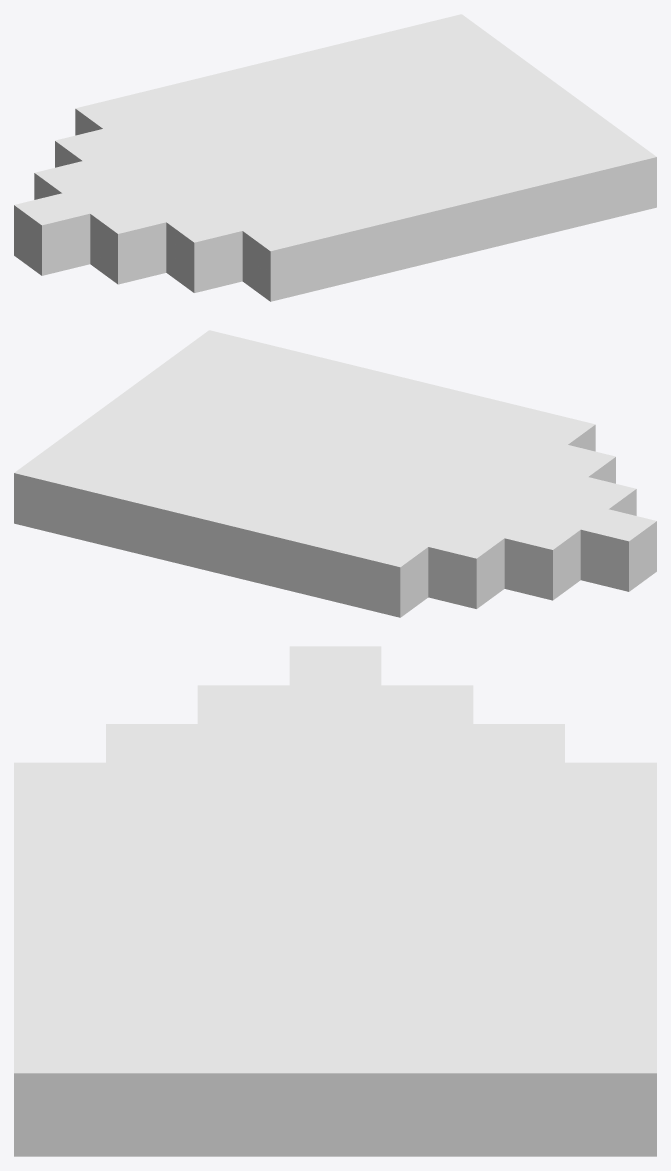
The model's file is WhiteAloAllInOne.obj.
3 views of the same model, one above another, from view 1: azimuth 30°, elevation 25°; view 2: azimuth 150°, elevation 25°; view 3: azimuth 270°, elevation 25° (orthographic). The views are drawn at different scales.
Bounding box in the file's own units: 1.1 × 0.1 × 0.7.
1 material, 1 textured.
